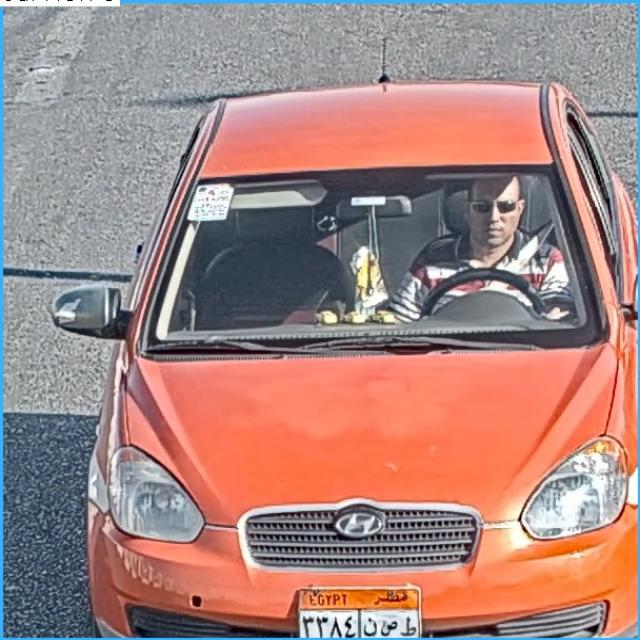windshield: (149, 176, 606, 342)
